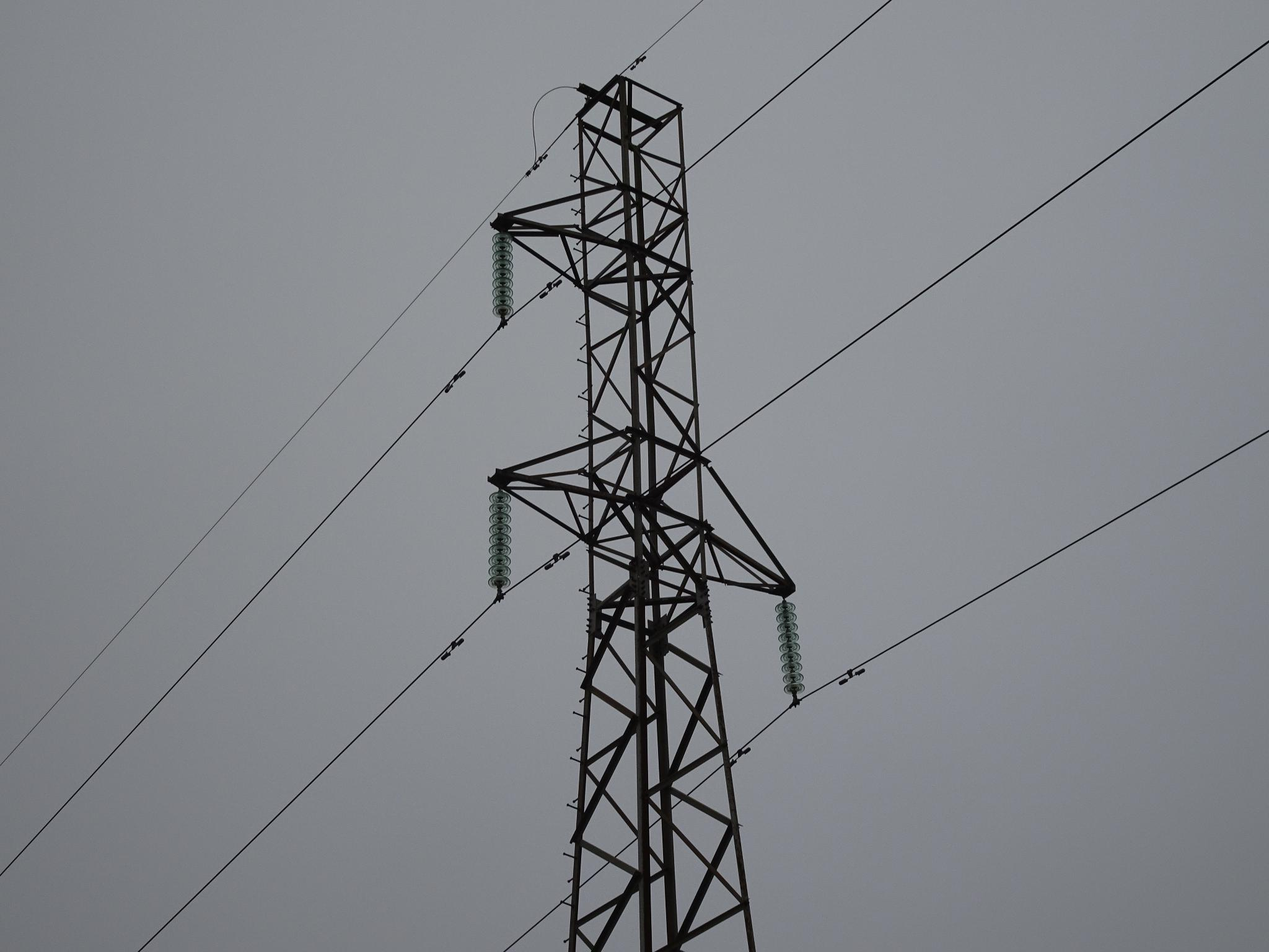tower: (477, 55, 800, 946)
